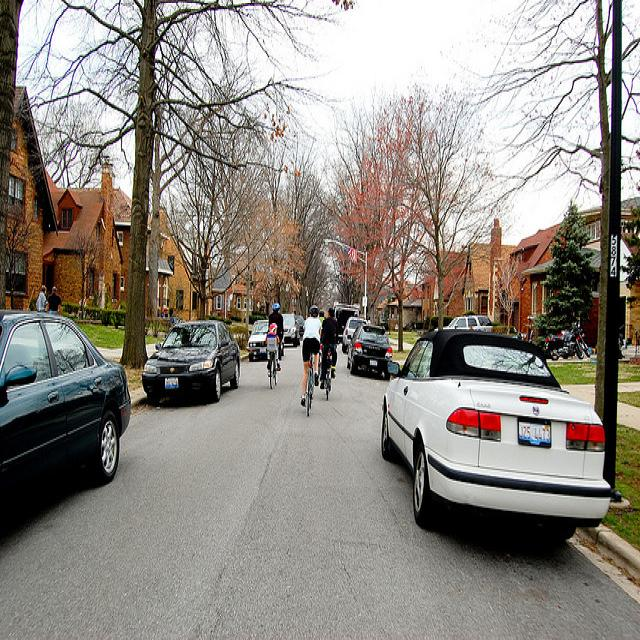motor: (544, 334, 584, 359), (570, 322, 590, 358)
